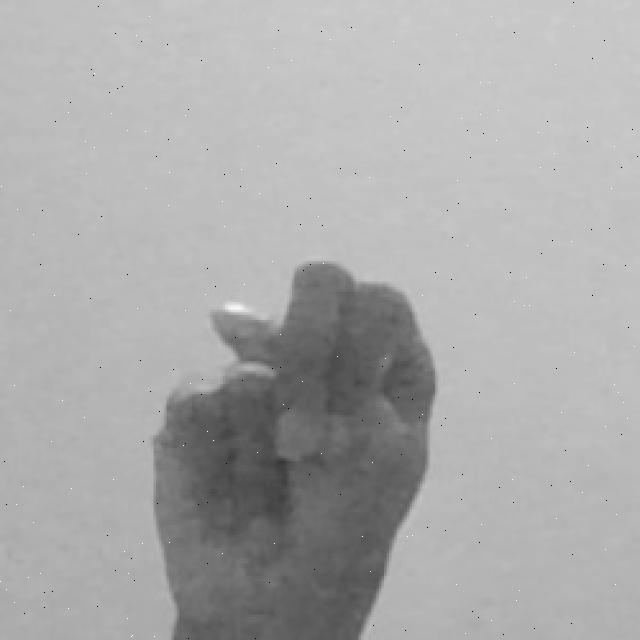N: (144, 253, 440, 640)
